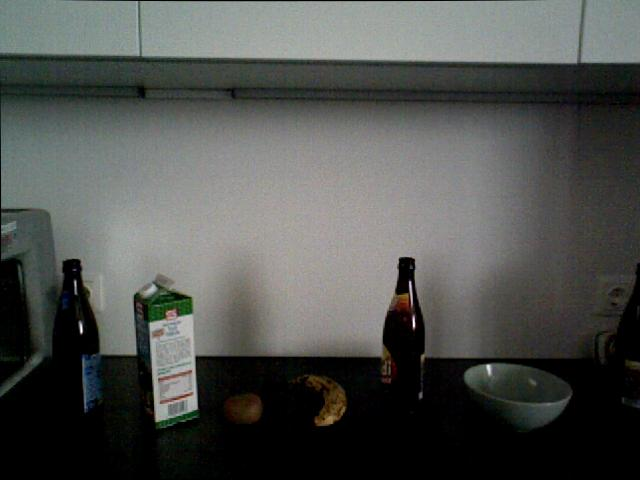bench: (128, 273, 205, 430), (50, 257, 103, 422), (379, 256, 425, 403), (619, 259, 640, 429)
bird: (462, 361, 573, 431)
giraffe: (590, 327, 619, 367)
motorcycle: (286, 365, 351, 432)
